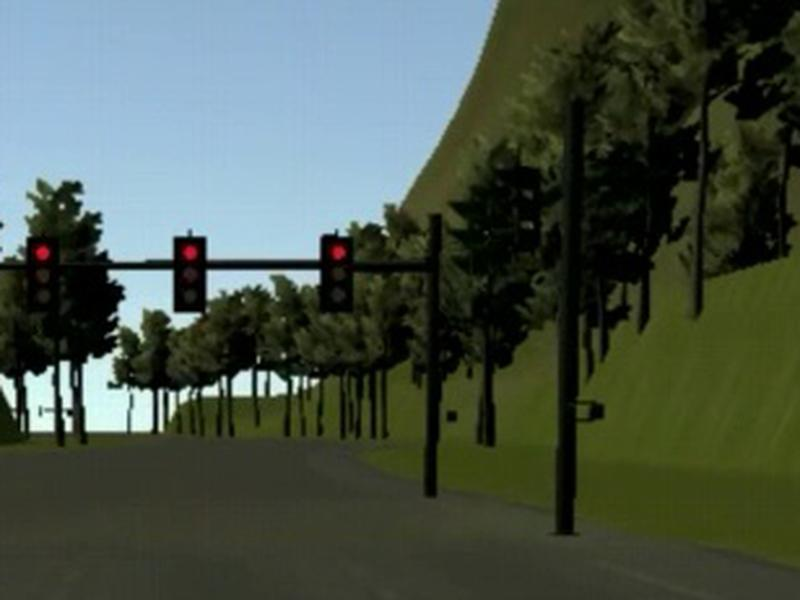Red: (320, 234, 353, 313), (28, 237, 61, 312), (175, 236, 206, 311)
